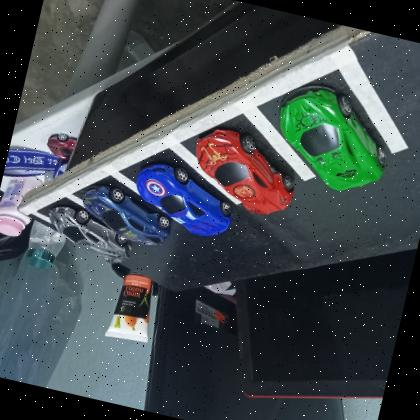Car: (264, 76, 400, 200), (184, 123, 304, 220), (127, 158, 240, 243), (74, 180, 178, 250), (40, 202, 138, 268)
